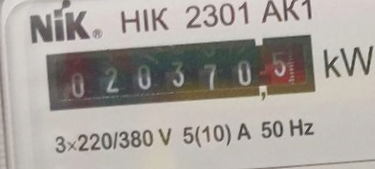0: (233, 57, 254, 88), (67, 68, 86, 99), (134, 61, 151, 90)
2: (100, 63, 121, 96)
3: (167, 57, 185, 88)
5: (269, 47, 289, 79)
7: (200, 61, 218, 92)
screen: (37, 25, 324, 123)
